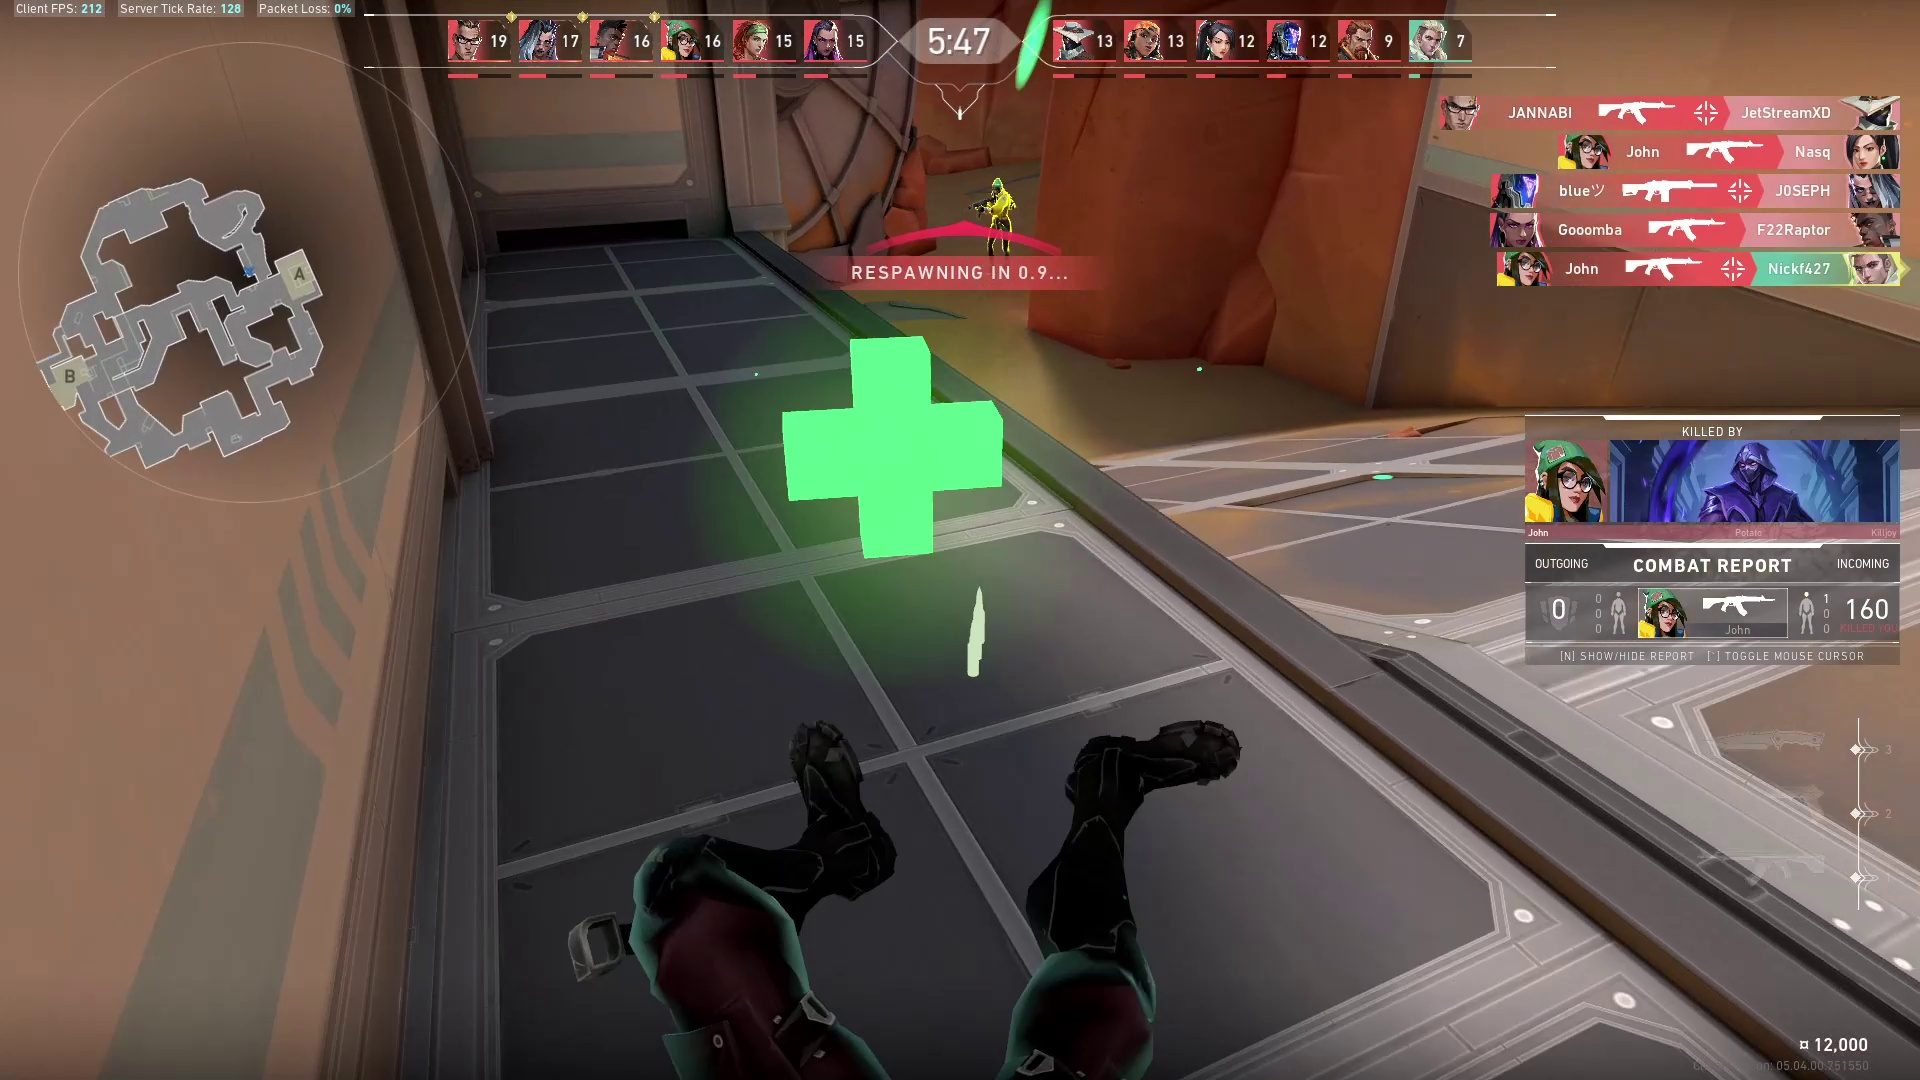enemy_body: (967, 193, 1021, 257)
enemy_head: (990, 175, 1005, 196)
